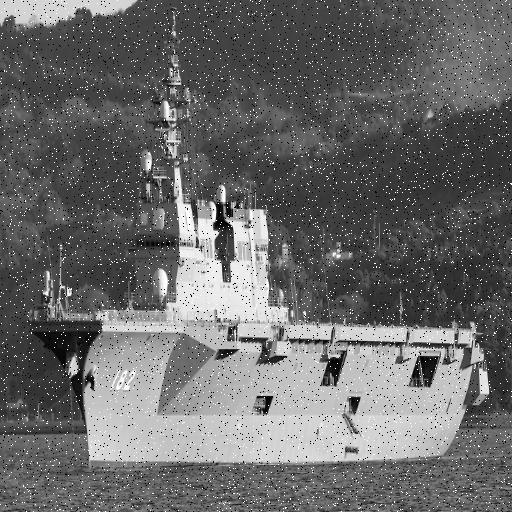Portanaves: (30, 1, 494, 480)
